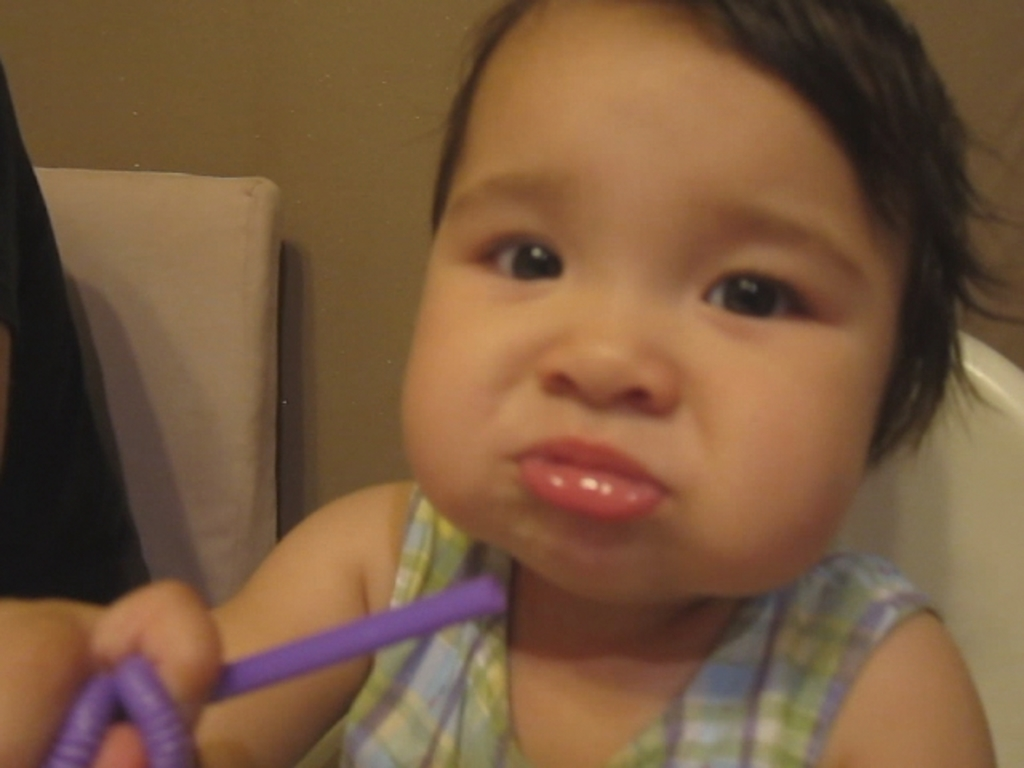Human_hand: (0, 571, 232, 766)
